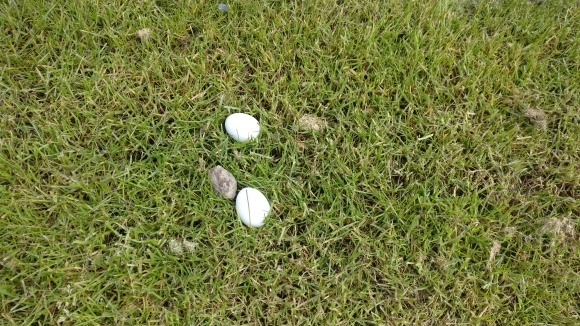egg: (234, 187, 271, 228), (224, 111, 263, 144)
